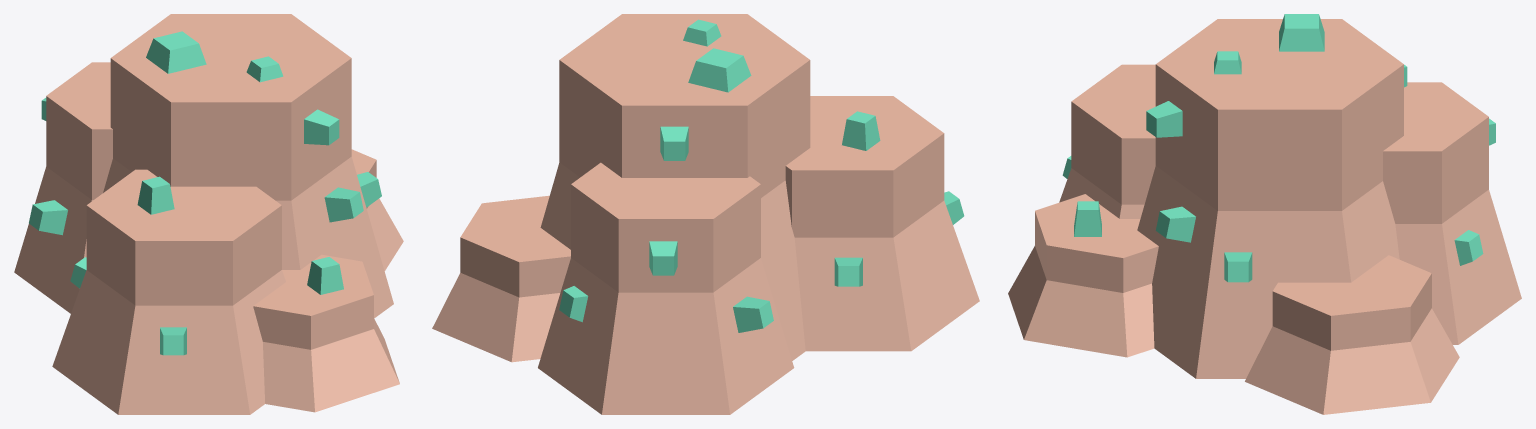
The model's file is crystal_rock.glb.
The picture shows the model from 3 angles, left to right: view 1: azimuth 30°, elevation 25°; view 2: azimuth 150°, elevation 25°; view 3: azimuth 270°, elevation 25°; orthographic projection. The views are drawn at different scales.
Parts seen in each view (by area): view 1: rock_crystalsLargeA; view 2: rock_crystalsLargeA; view 3: rock_crystalsLargeA.
Part boxes in pixels (left/top/right/bottom): rock_crystalsLargeA: left=14, top=14, right=403, bottom=414; rock_crystalsLargeA: left=432, top=14, right=979, bottom=414; rock_crystalsLargeA: left=1008, top=14, right=1521, bottom=414.
Size of the model in its own units: 0.8339 by 0.541 by 0.9193.
